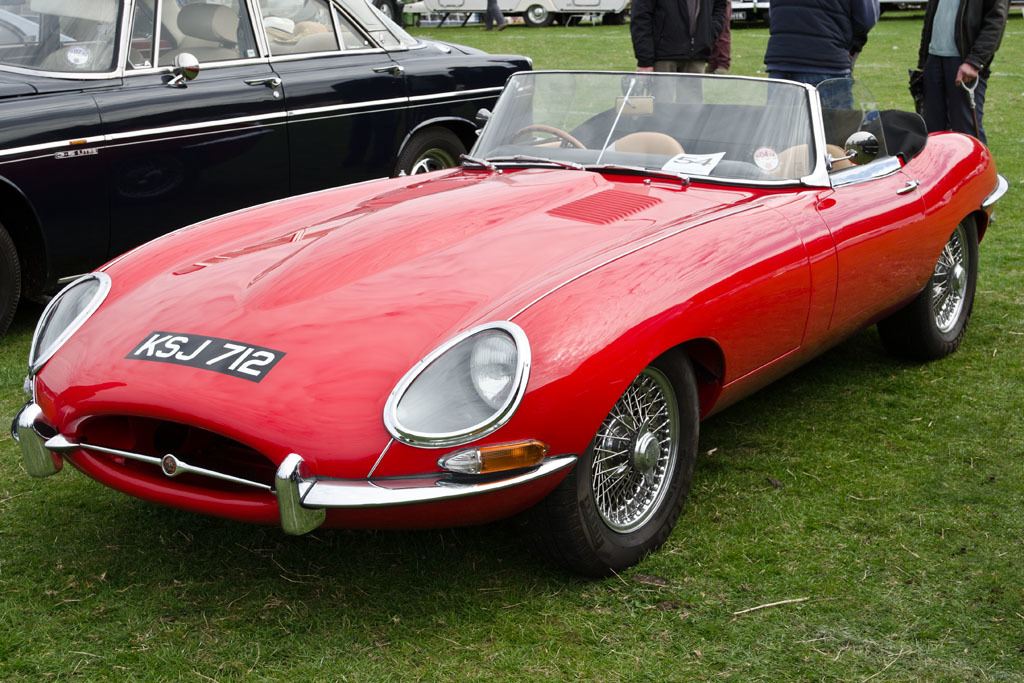Car: (10, 72, 1006, 580), (0, 0, 544, 332), (414, 0, 622, 22), (0, 0, 76, 37), (721, 0, 768, 22)
